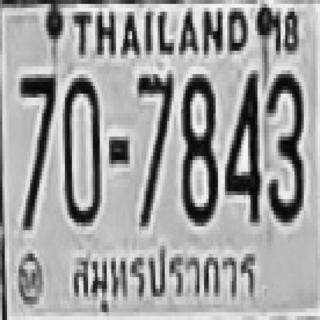N00: (63, 74, 100, 222)
N03: (264, 70, 302, 219)
N04: (223, 68, 260, 221)
N07: (137, 70, 172, 222), (19, 70, 53, 226)
N08: (181, 70, 216, 222)
P57: (69, 236, 265, 317)
